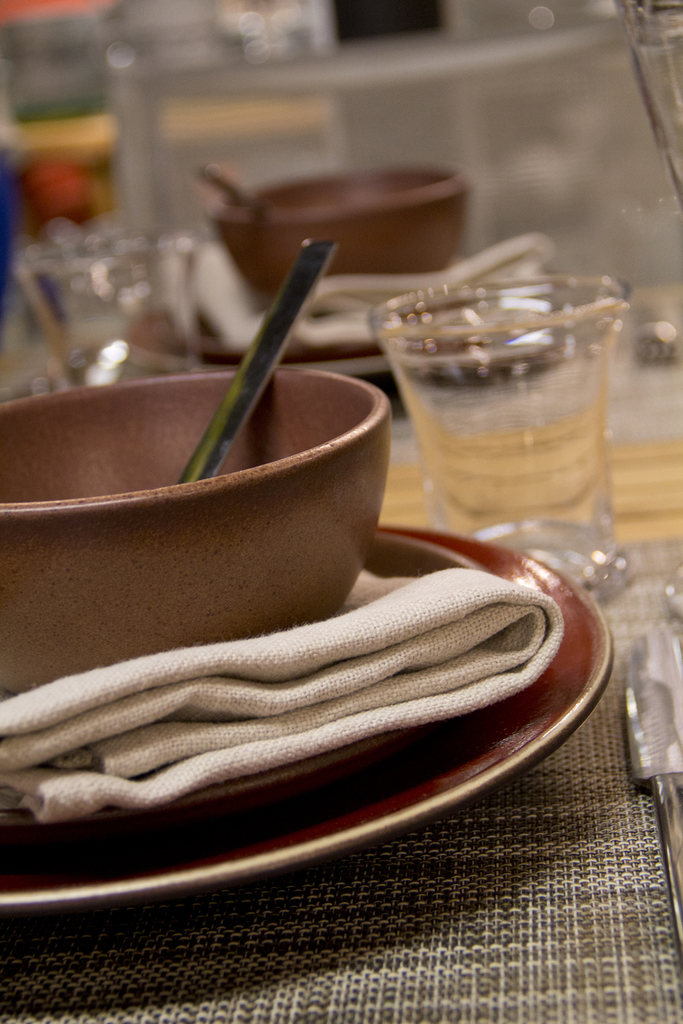plate: (0, 524, 615, 905)
